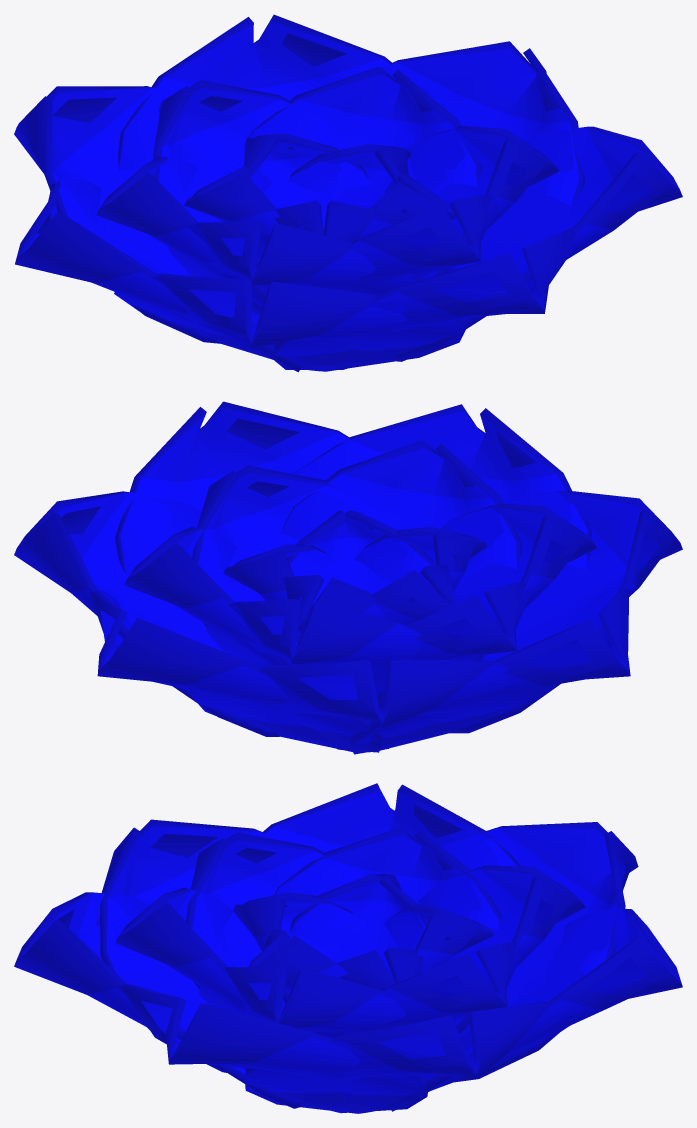
The model's file is garden-rose-bloom-head-1-0000ff.glb.
The picture shows the model from 3 angles, top to bottom: view 1: azimuth 30°, elevation 25°; view 2: azimuth 150°, elevation 25°; view 3: azimuth 270°, elevation 25°; orthographic projection. The views are drawn at different scales.
Visible parts, largest first — view 1: rose-bloom-head-1-0000ff; view 2: rose-bloom-head-1-0000ff; view 3: rose-bloom-head-1-0000ff.
Part boxes in pixels (left/top/right/bottom): rose-bloom-head-1-0000ff: left=14, top=14, right=682, bottom=372; rose-bloom-head-1-0000ff: left=14, top=401, right=682, bottom=754; rose-bloom-head-1-0000ff: left=14, top=783, right=682, bottom=1113.
Bounding box in the file's own units: 0.1104 × 0.0397 × 0.1138.
